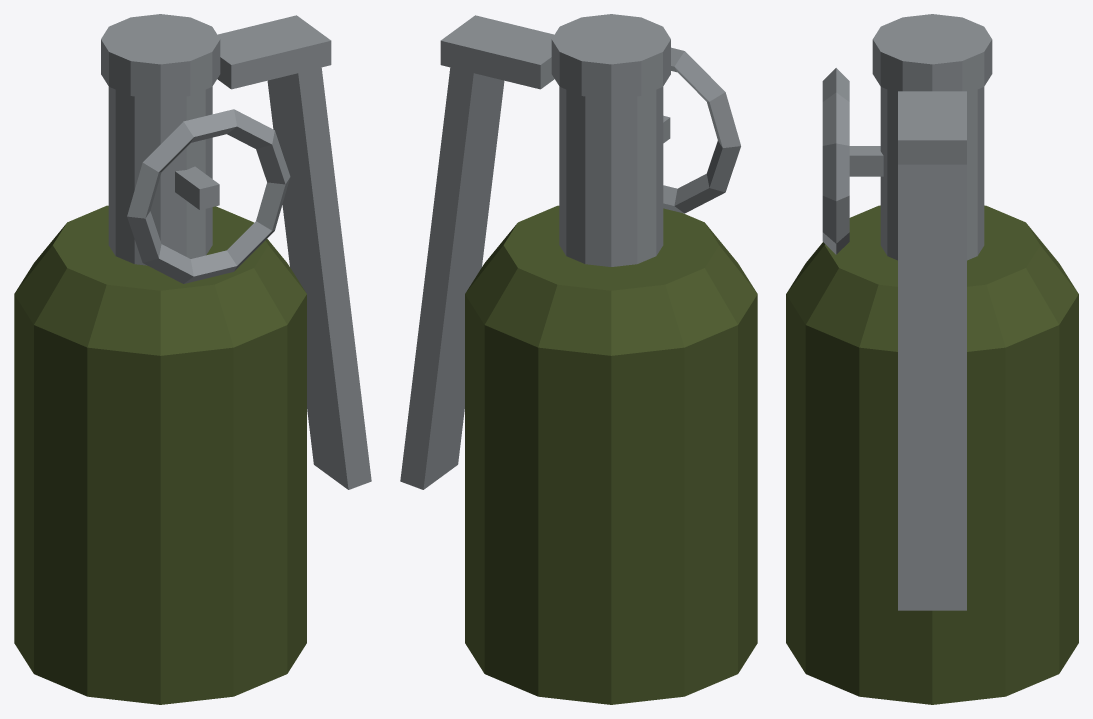
File: Grenade.glb
3 views of the same model, side by side, from view 1: azimuth 30°, elevation 25°; view 2: azimuth 150°, elevation 25°; view 3: azimuth 270°, elevation 25° (orthographic).
Visible parts, largest first — view 1: Body, Shoulder, Lever, Neck, Ring, Cap, LeverTop, Pin; view 2: Body, Shoulder, Lever, Neck, Cap, LeverTop, Ring; view 3: Body, Lever, Shoulder, Cap, Neck, LeverTop, Ring, Pin.
Part boxes in pixels (x1,y1,x2,y2): Body: [14, 294, 306, 704]; Shoulder: [14, 205, 306, 355]; Lever: [267, 61, 371, 489]; Neck: [108, 86, 212, 265]; Ring: [127, 109, 290, 283]; Cap: [101, 14, 220, 99]; LeverTop: [217, 15, 331, 89]; Pin: [175, 166, 219, 209]; Body: [465, 294, 757, 704]; Shoulder: [465, 205, 757, 355]; Lever: [400, 61, 504, 489]; Neck: [559, 86, 663, 266]; Cap: [551, 14, 670, 99]; LeverTop: [440, 15, 554, 89]; Ring: [663, 47, 740, 213]; Body: [786, 294, 1078, 704]; Lever: [898, 164, 966, 610]; Shoulder: [786, 205, 1078, 351]; Cap: [872, 14, 992, 93]; Neck: [880, 87, 984, 260]; LeverTop: [898, 91, 966, 164]; Ring: [822, 68, 849, 254]; Pin: [849, 146, 883, 176].
Bounding box in the file's own units: 0.0961 × 0.173 × 0.076.
